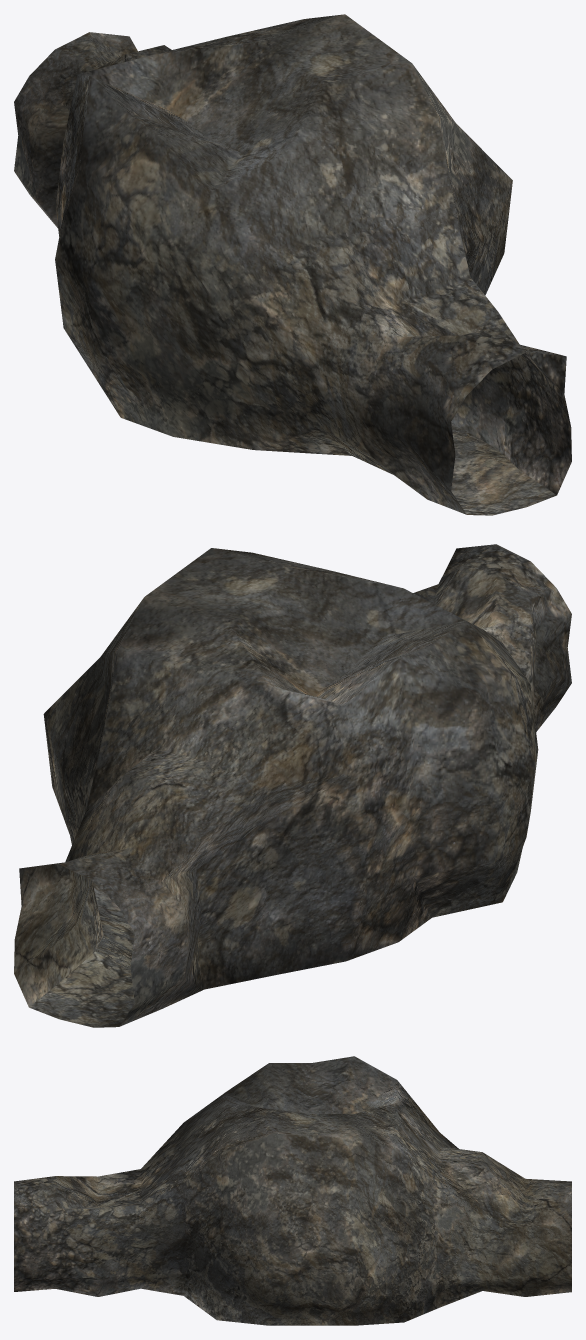
File: cave_piece_11.glb
3 renders of one model, top to bottom at view 1: azimuth 30°, elevation 25°; view 2: azimuth 150°, elevation 25°; view 3: azimuth 270°, elevation 25°, orthographic. The views are drawn at different scales.
Parts seen in each view (by area): view 1: mine_11_mine_0; view 2: mine_11_mine_0; view 3: mine_11_mine_0.
Boxes of the visible parts, box(x1,y1,x2,y2) form: mine_11_mine_0: box(14, 14, 571, 515); mine_11_mine_0: box(14, 544, 571, 1027); mine_11_mine_0: box(14, 1056, 571, 1325).
Bounding box in the file's own units: 12.43 × 8.44 × 22.18.
1 material, 1 textured.
